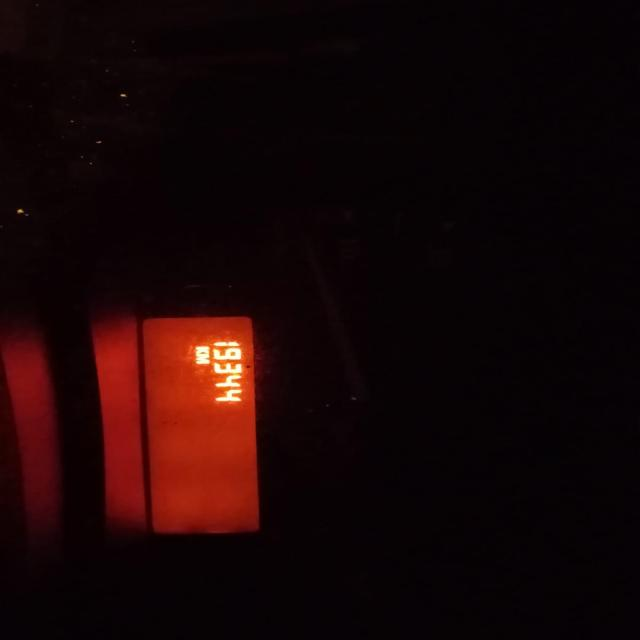odometer: (139, 314, 262, 538)
